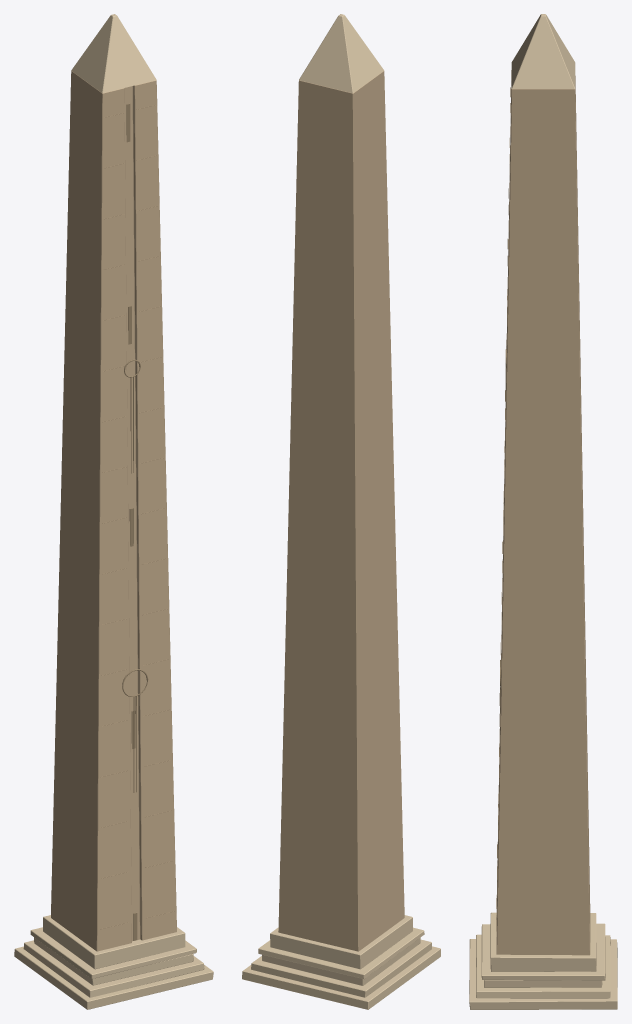
The model's file is obelisk.glb.
3 views of the same model, side by side, from view 1: azimuth 30°, elevation 25°; view 2: azimuth 150°, elevation 25°; view 3: azimuth 270°, elevation 25° (orthographic).
Visible parts, largest first — view 1: obelisk_stone, obelisk_trim, obelisk_darkstone; view 2: obelisk_stone, obelisk_trim; view 3: obelisk_stone, obelisk_trim, obelisk_darkstone.
Part boxes in pixels (box(x1,y1,x2,y2)): obelisk_stone: box(51, 71, 176, 951); obelisk_trim: box(14, 14, 213, 1009); obelisk_darkstone: box(100, 103, 174, 940); obelisk_stone: box(278, 71, 404, 951); obelisk_trim: box(242, 14, 440, 1009); obelisk_stone: box(496, 70, 590, 955); obelisk_trim: box(469, 14, 617, 1009); obelisk_darkstone: box(496, 87, 510, 931).
Bounding box in the file's own units: 11.05 × 79.32 × 11.06.
